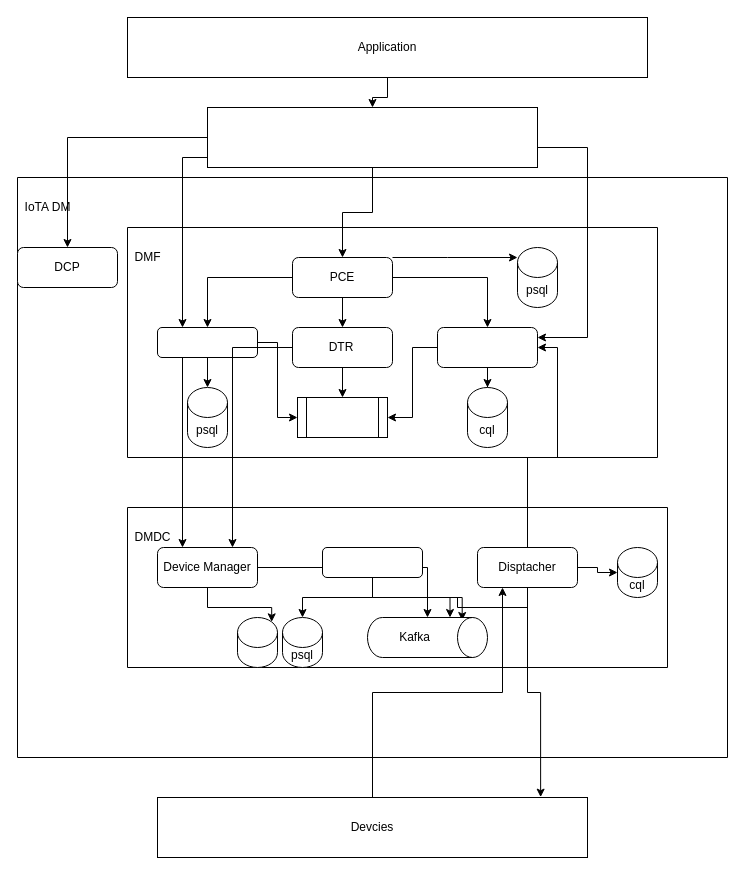
Some shapes in this 745 by 875 pixel diagram are drawn without their labels. Here are the shapes that lost their labels. From the top down, the centre of each, then its label:
the point at 372,137: Kong Gateway
the point at 207,342: DCE
the point at 487,347: ECE
the point at 342,417: Pulsar Topic
the point at 372,562: Btach FOTA
the point at 257,642: sql
